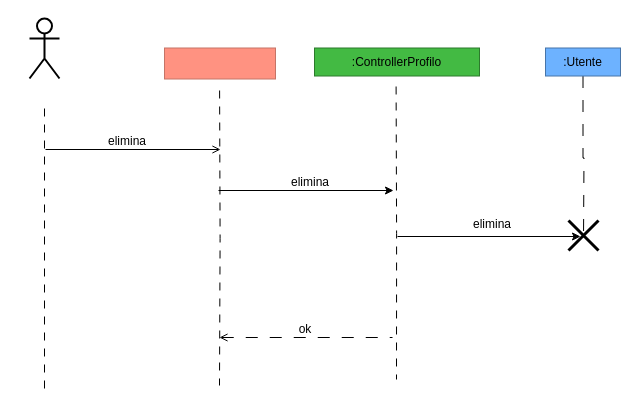
The diagram is 638 pixels wide and 411 high, and some of its shapes have lost their labels. The centre of each missing label's shape, as x and y in pixels:
:ViewModificaProfilo: point (220, 63)
Utente: point (44, 48)
